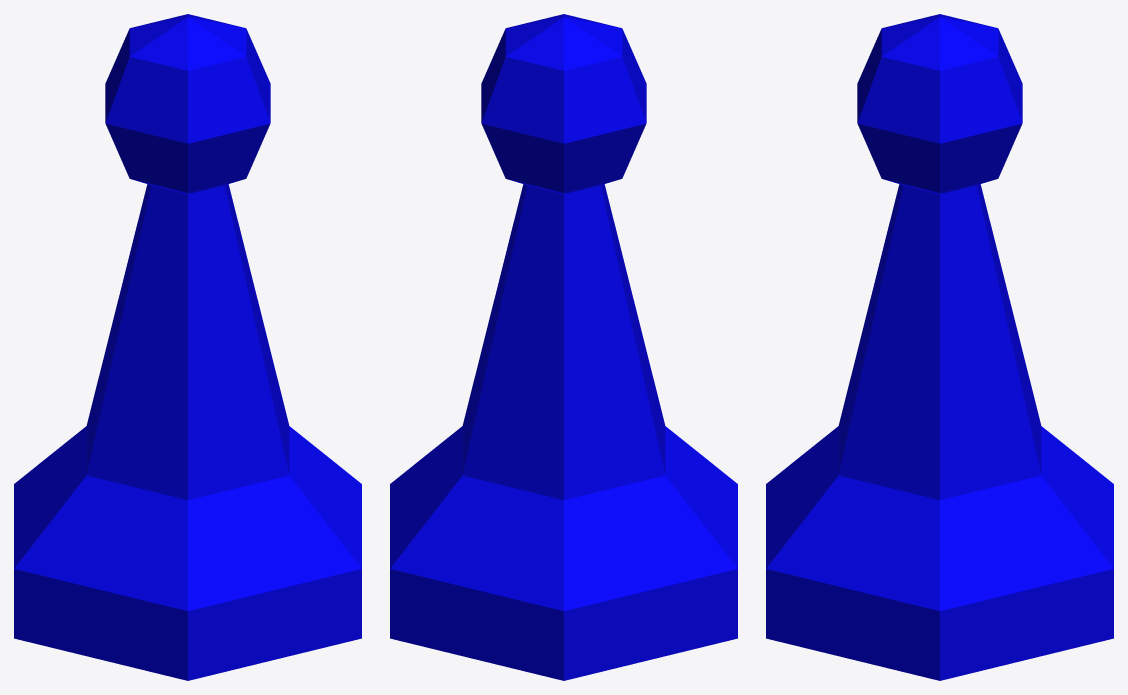
Rendered from Game_Piece_Generic_Blue_01.fbx.
3 renders of one model, left to right at view 1: azimuth 30°, elevation 25°; view 2: azimuth 150°, elevation 25°; view 3: azimuth 270°, elevation 25°, orthographic.
Visible parts, largest first — view 1: Game_Piece_Generic_Blue_01; view 2: Game_Piece_Generic_Blue_01; view 3: Game_Piece_Generic_Blue_01.
Part boxes in pixels (left/top/right/bottom): Game_Piece_Generic_Blue_01: left=14, top=14, right=361, bottom=680; Game_Piece_Generic_Blue_01: left=390, top=14, right=737, bottom=680; Game_Piece_Generic_Blue_01: left=766, top=14, right=1113, bottom=680.
Bounding box in the file's own units: 15.7 × 24.98 × 13.6.
